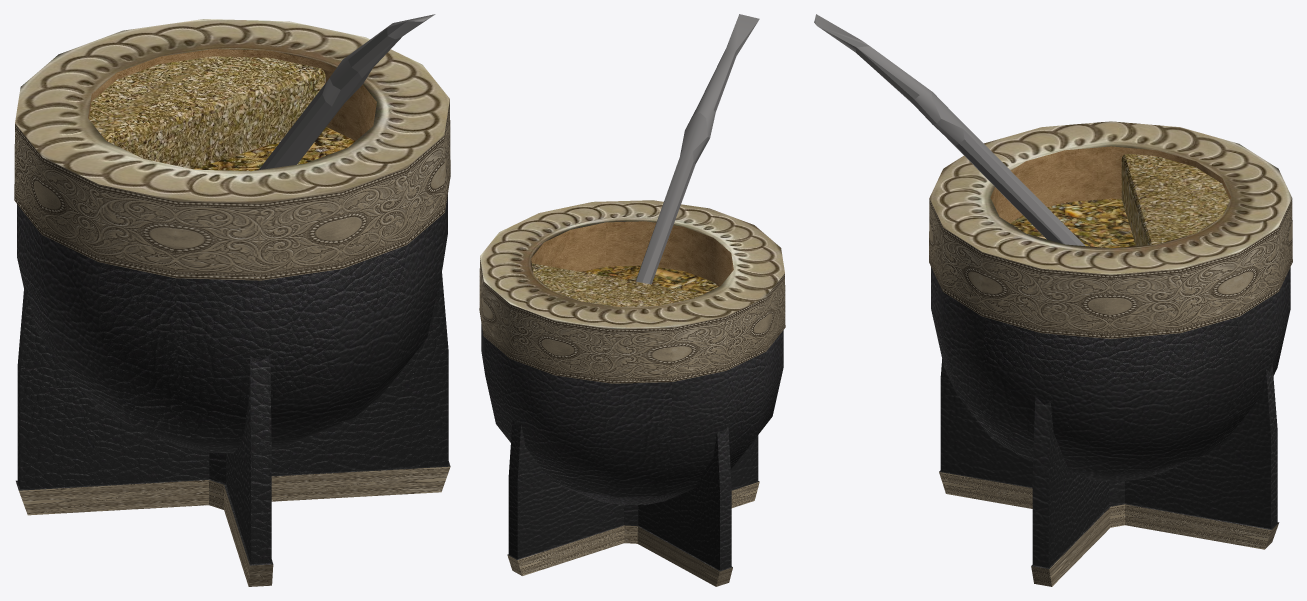
File: leomattioli.fbx
3 renders of one model, left to right at view 1: azimuth 30°, elevation 25°; view 2: azimuth 150°, elevation 25°; view 3: azimuth 270°, elevation 25°, orthographic. The views are drawn at different scales.
Parts seen in each view (by area): view 1: Cylinder, Cylinder.001, Cylinder.002; view 2: Cylinder, Cylinder.001, Cylinder.002; view 3: Cylinder, Cylinder.001, Cylinder.002.
Boxes of the visible parts, <box> form: Cylinder: <box>14,19,450,453</box>; Cylinder.001: <box>16,272,450,586</box>; Cylinder.002: <box>259,14,435,169</box>; Cylinder: <box>479,200,785,505</box>; Cylinder.001: <box>507,419,759,586</box>; Cylinder.002: <box>635,14,759,284</box>; Cylinder: <box>929,121,1292,481</box>; Cylinder.001: <box>939,359,1279,586</box>; Cylinder.002: <box>814,14,1085,246</box>.
Size of the model in its own units: 15.92 by 24.27 by 20.94.
Materials: 4 (3 with a texture image).
